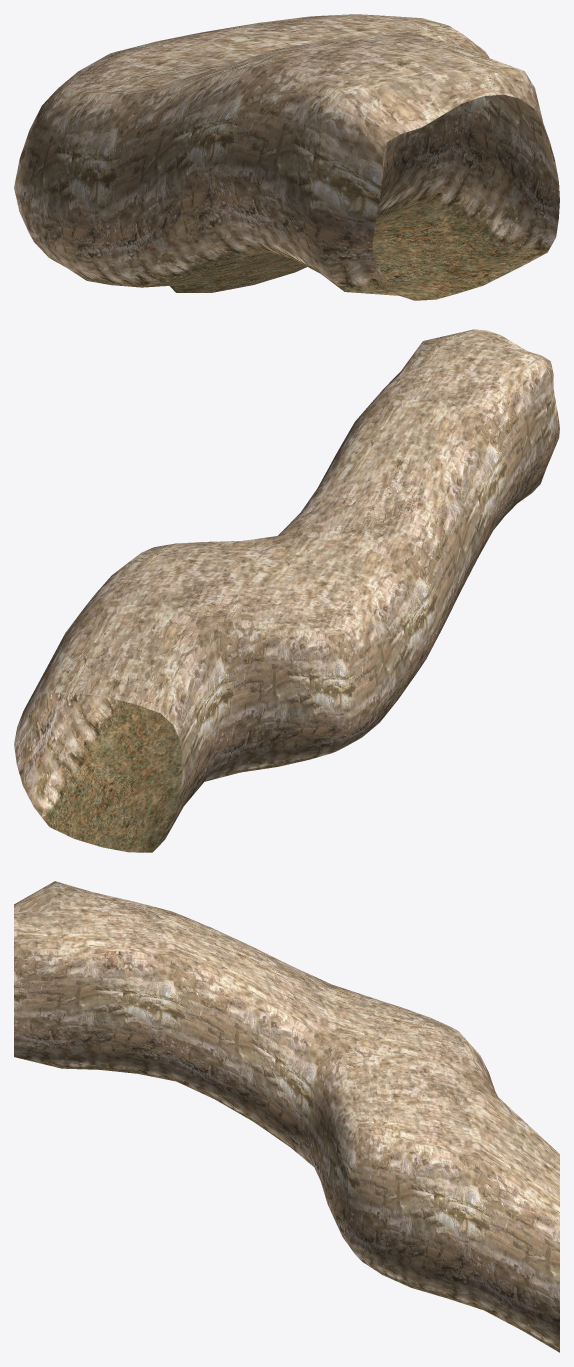
File: thm_all_cave_flatland_s01_r1_mesh_r1.fbx
3 views of the same model, one above another, from view 1: azimuth 30°, elevation 25°; view 2: azimuth 150°, elevation 25°; view 3: azimuth 270°, elevation 25° (orthographic). The views are drawn at different scales.
Visible parts, largest first — view 1: mesh_node; view 2: mesh_node; view 3: mesh_node.
Part boxes in pixels (box(x1,y1,x2,y2)): mesh_node: box(14, 14, 559, 300); mesh_node: box(14, 329, 559, 852); mesh_node: box(14, 881, 559, 1352).
Bounding box in the file's own units: 22.85 × 25.54 × 35.
